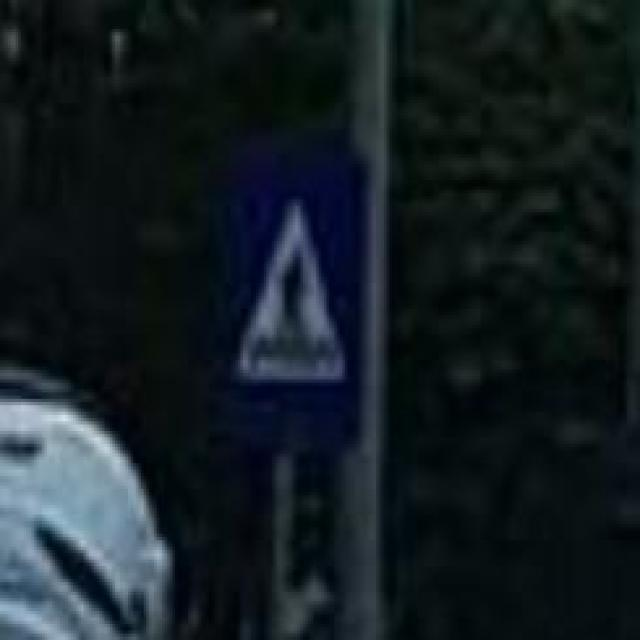traffic sign: (238, 177, 361, 431)
